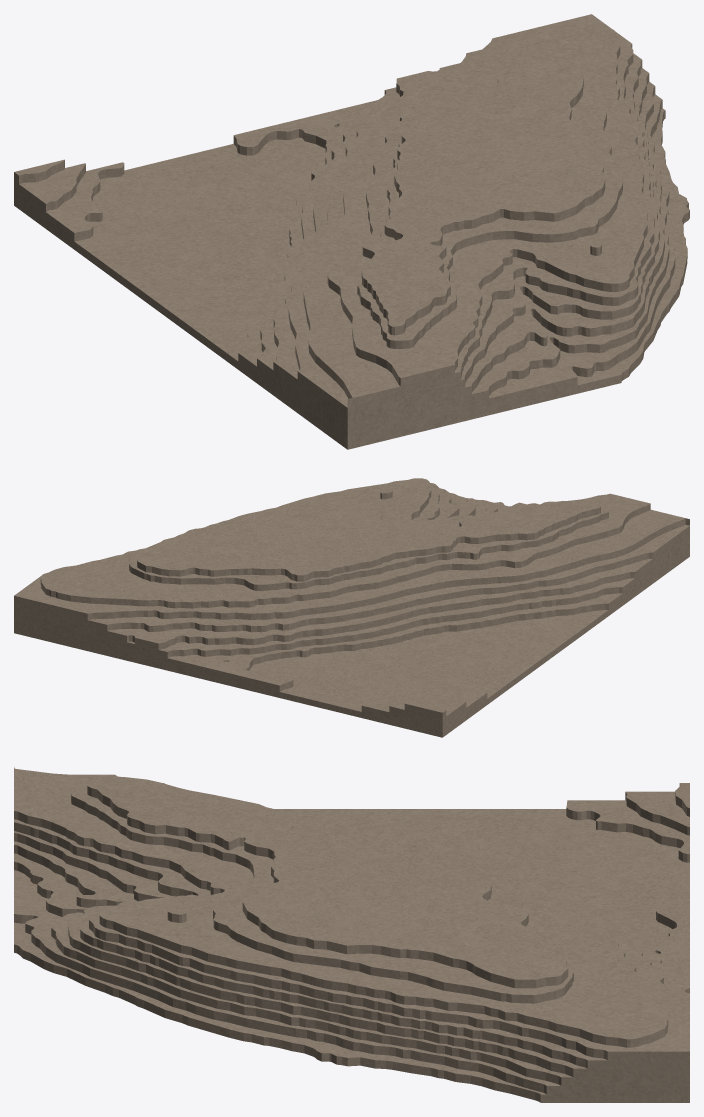
File: coaster-draco.a685f765.glb
The picture shows the model from 3 angles, top to bottom: view 1: azimuth 30°, elevation 25°; view 2: azimuth 150°, elevation 25°; view 3: azimuth 270°, elevation 25°; orthographic projection. The views are drawn at different scales.
Parts seen in each view (by area): view 1: coaster; view 2: coaster; view 3: coaster.
Part boxes in pixels (<box>): coaster: <box>14,14,689,449</box>; coaster: <box>14,478,689,737</box>; coaster: <box>14,767,689,1102</box>.
Size of the model in its own units: 102 by 12.71 by 102.
1 material, 1 textured.
